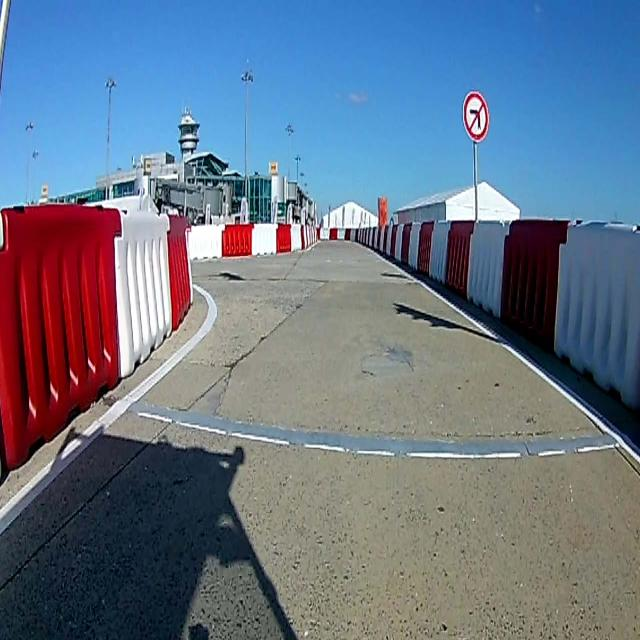soladonulmez: (462, 92, 489, 143)
